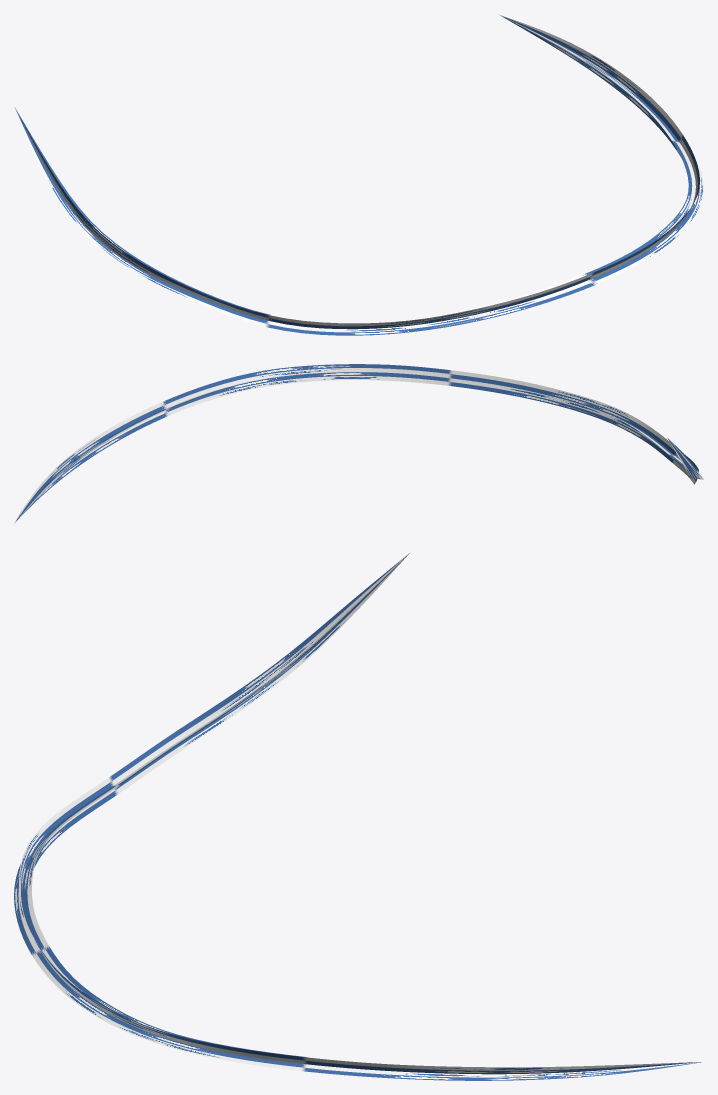
File: Rui_Skl3Line4.fbx
The picture shows the model from 3 angles, top to bottom: view 1: azimuth 30°, elevation 25°; view 2: azimuth 150°, elevation 25°; view 3: azimuth 270°, elevation 25°; orthographic projection. The views are drawn at different scales.
Parts seen in each view (by area): view 1: SM_e_Plc_P1007_Skil3_Line004; view 2: SM_e_Plc_P1007_Skil3_Line004; view 3: SM_e_Plc_P1007_Skil3_Line004.
Part boxes in pixels (left/top/right/bottom): SM_e_Plc_P1007_Skil3_Line004: left=14, top=14, right=703, bottom=335; SM_e_Plc_P1007_Skil3_Line004: left=14, top=364, right=703, bottom=523; SM_e_Plc_P1007_Skil3_Line004: left=14, top=553, right=702, bottom=1080.
Bounding box in the file's own units: 622 × 149 × 513.
